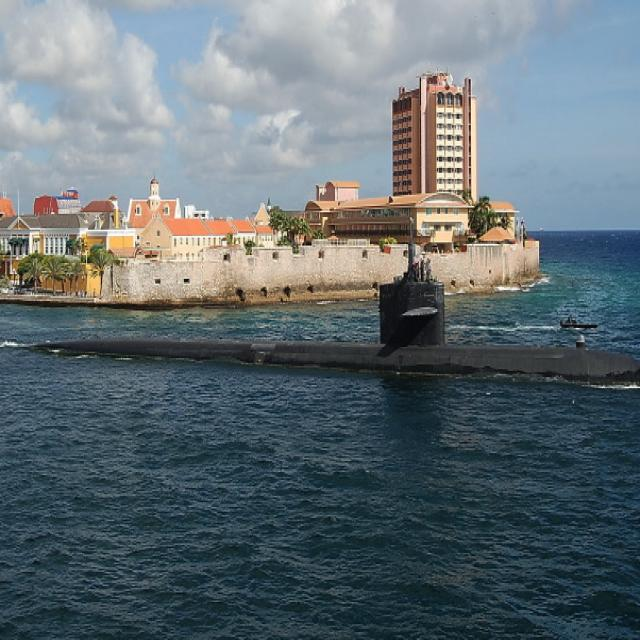submarine: (1, 242, 640, 389)
